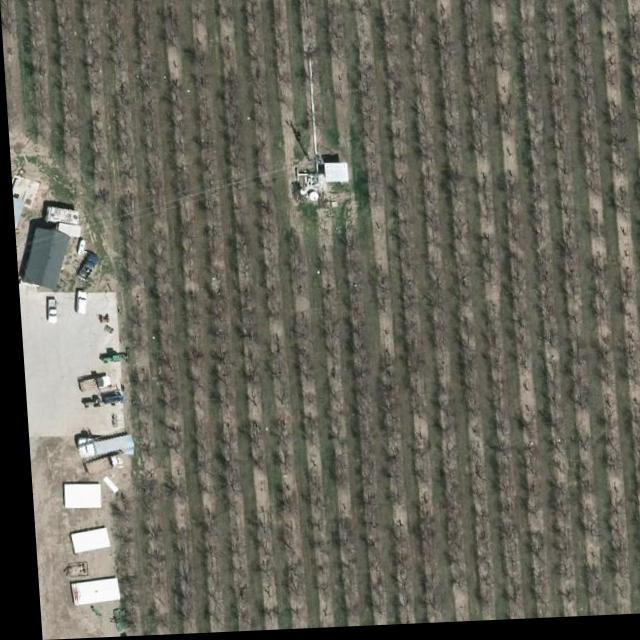vehicle: (71, 430, 130, 464), (76, 453, 118, 475), (72, 251, 99, 285), (73, 374, 107, 392), (68, 291, 84, 316), (42, 299, 54, 325)
